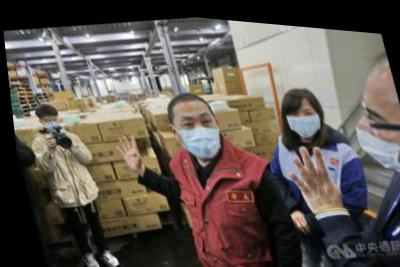OK: (169, 102, 225, 161), (282, 96, 322, 135), (39, 113, 59, 133)
WRONG: (343, 78, 400, 175)
